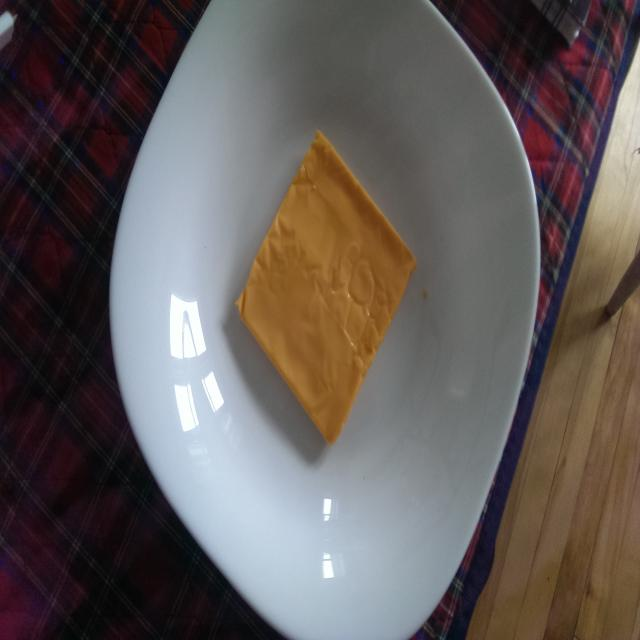cheese: (234, 126, 418, 446)
